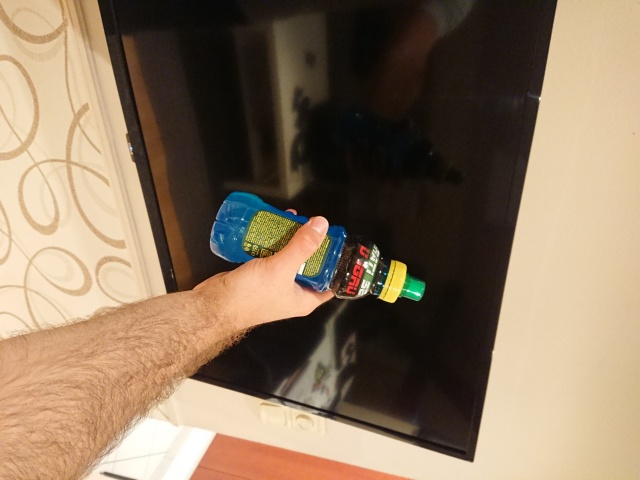Vindi Iso Sport Forest Strawberries 500mL: (207, 188, 427, 304)
